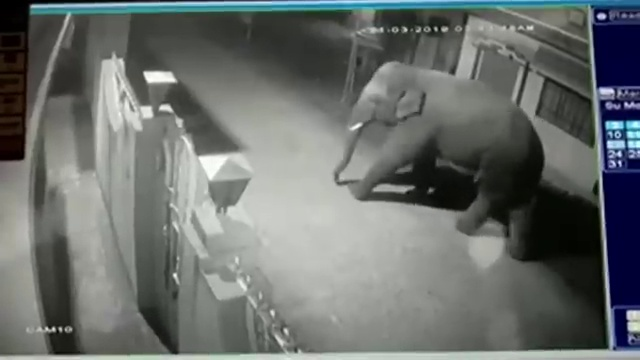Elephant: (333, 61, 544, 262)
